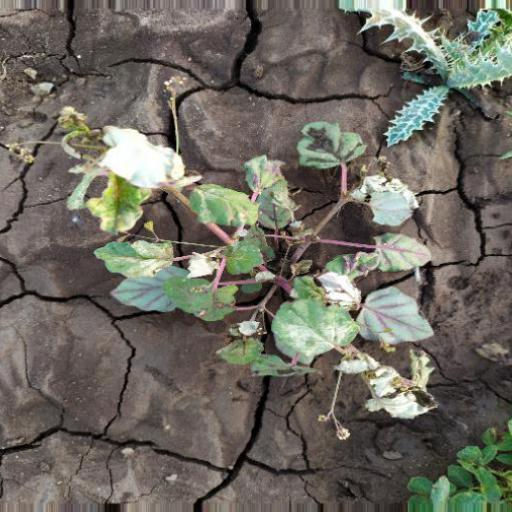weed: (39, 110, 448, 446), (330, 1, 507, 148)
